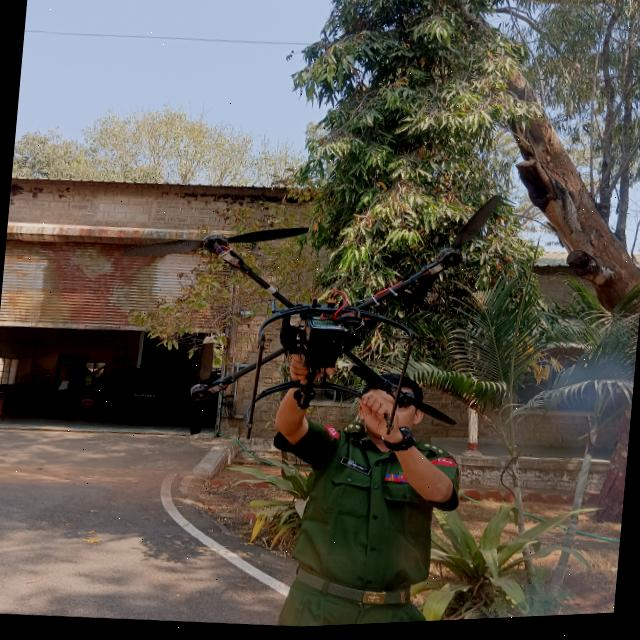drone: (118, 171, 562, 469)
